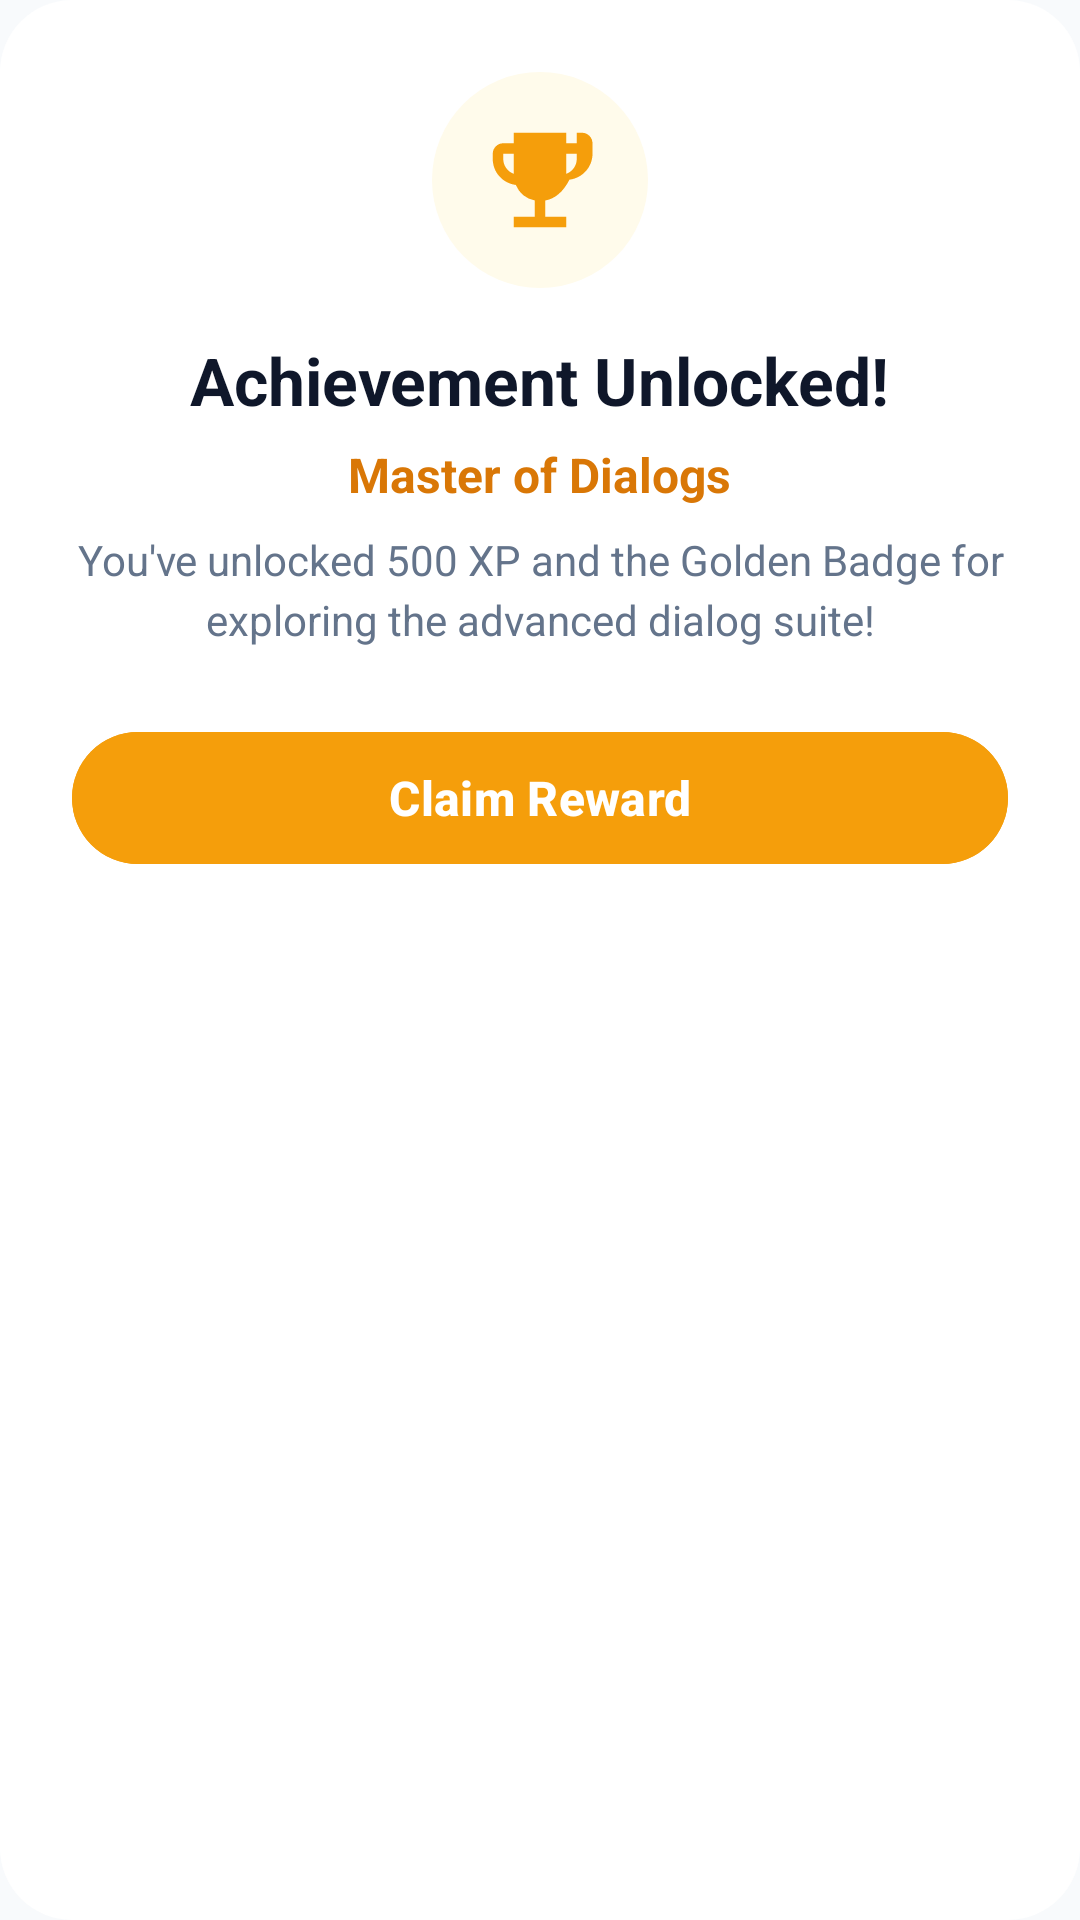

Point at icon controls on the screen. Image size 1080 × 1920, points as (x=x, y=y).
Reward: (x=542, y=180)
